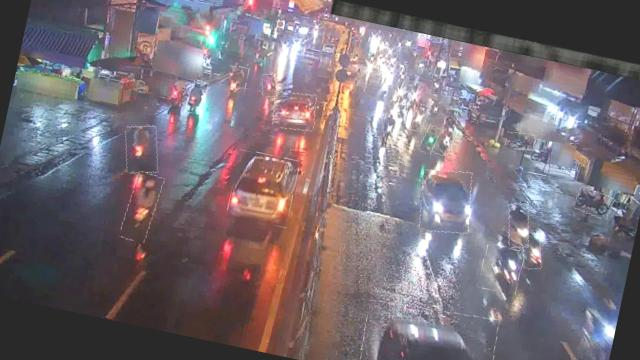Bike: (120, 170, 163, 243), (478, 244, 526, 296), (120, 121, 164, 176), (503, 202, 535, 250), (572, 187, 614, 220), (162, 75, 191, 118), (518, 230, 546, 271), (185, 78, 208, 115), (433, 125, 457, 157), (224, 65, 248, 96), (504, 129, 536, 152), (380, 111, 401, 144), (420, 124, 440, 154), (409, 102, 429, 132), (260, 72, 280, 98), (441, 108, 459, 134), (397, 90, 412, 112)
Car: (355, 294, 501, 360), (226, 148, 300, 228), (413, 165, 478, 236), (269, 88, 319, 134)
